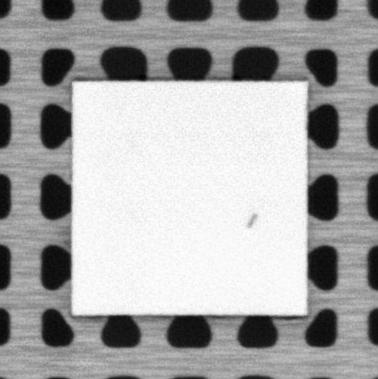DIE_INK: (246, 211, 259, 229)
